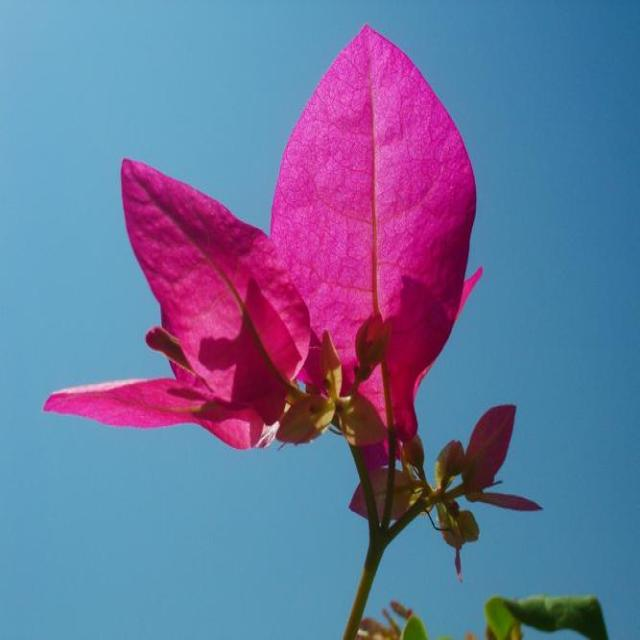bougainvillea: (16, 17, 613, 640)
